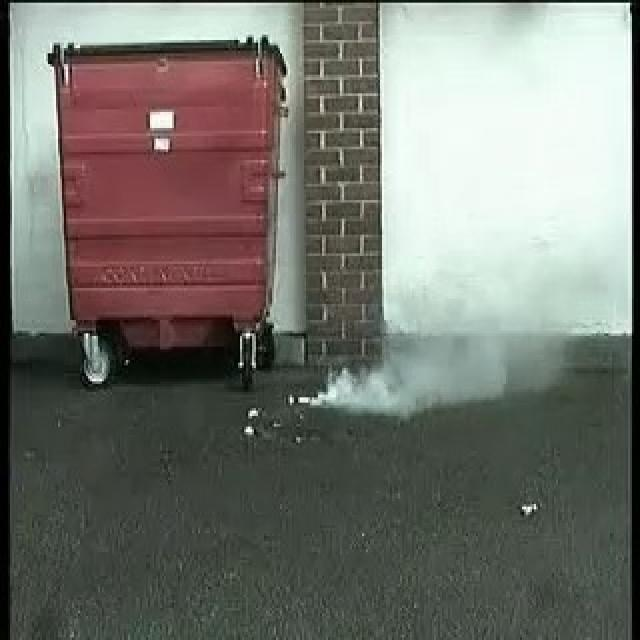smoke: (296, 327, 520, 414)
